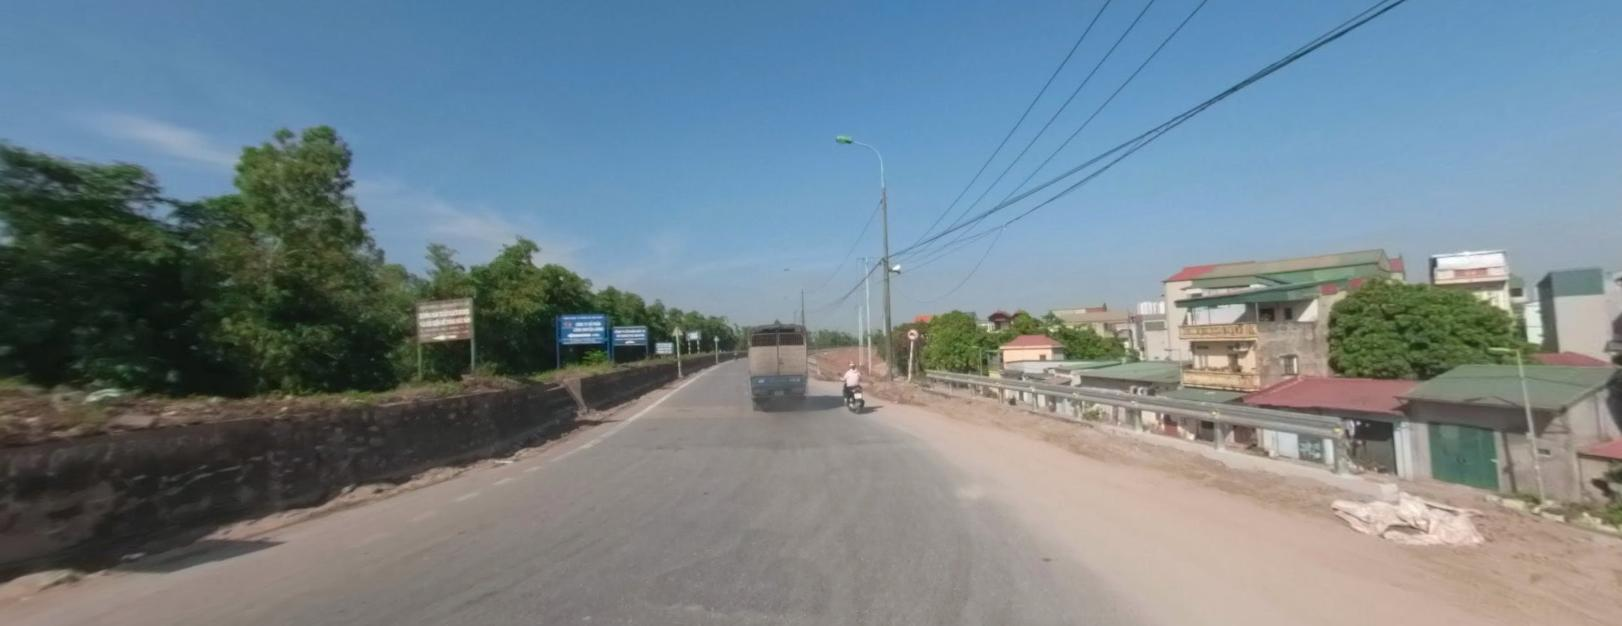Cam con lai: (906, 326, 918, 338)
